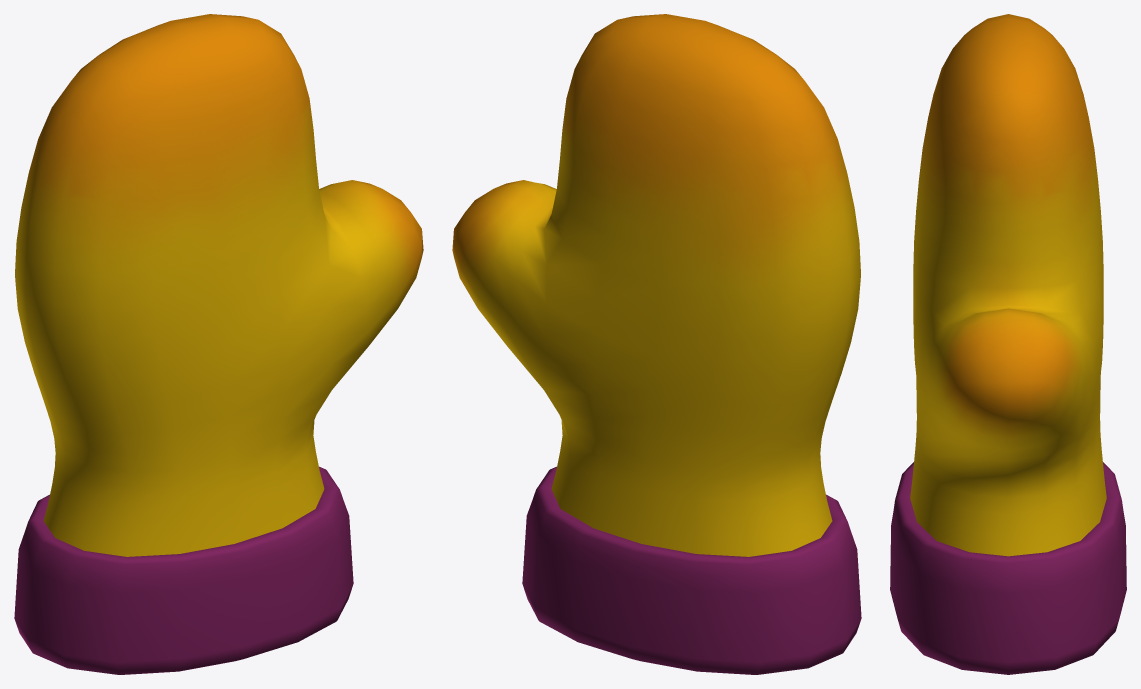
Rendered from GhostGlovesModel 1.fbx.
3 renders of one model, left to right at view 1: azimuth 30°, elevation 25°; view 2: azimuth 150°, elevation 25°; view 3: azimuth 270°, elevation 25°, orthographic. The views are drawn at different scales.
Visible parts, largest first — view 1: pCube36; view 2: pCube36; view 3: pCube36.
Part boxes in pixels (box(x1,y1,x2,y2)): pCube36: box(14, 14, 423, 674); pCube36: box(452, 14, 861, 674); pCube36: box(890, 14, 1126, 674).
Size of the model in its own units: 513 by 749 by 278.
